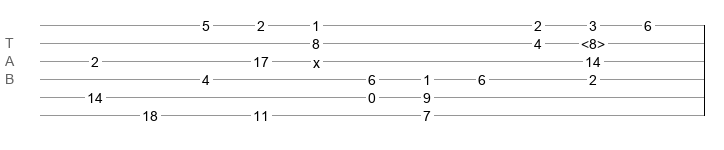0: (368, 90, 376, 100)
1: (312, 18, 320, 28), (423, 72, 431, 82)
11: (253, 108, 269, 118)
14: (87, 90, 103, 100), (585, 54, 601, 64)
17: (253, 54, 269, 64)
18: (142, 108, 158, 118)
2: (91, 54, 99, 64), (257, 18, 265, 28), (534, 18, 542, 28), (589, 72, 597, 82)
3: (589, 18, 597, 28)
4: (202, 72, 210, 82), (534, 36, 542, 46)
5: (202, 18, 210, 28)
6: (368, 72, 376, 82), (478, 72, 486, 82), (644, 18, 652, 28)
7: (423, 108, 431, 118)
8: (312, 36, 320, 46)
9: (423, 90, 431, 100)
harmonic: (581, 36, 605, 46)
x: (313, 55, 320, 63)
